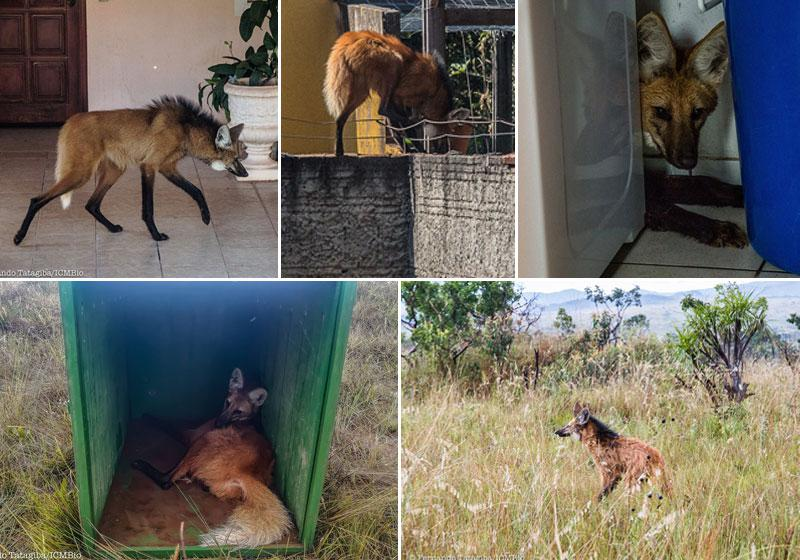LoboGuara: (9, 98, 253, 240), (127, 364, 290, 541), (318, 27, 486, 168), (551, 403, 682, 530)
